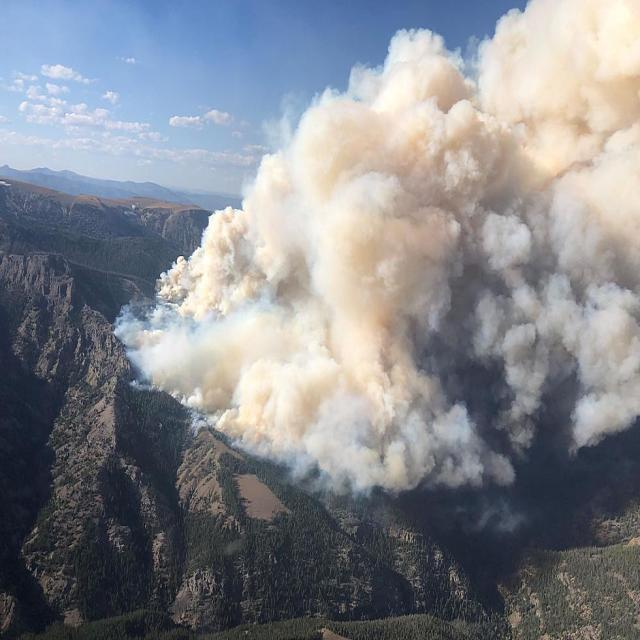Smoke: (116, 0, 640, 503)
